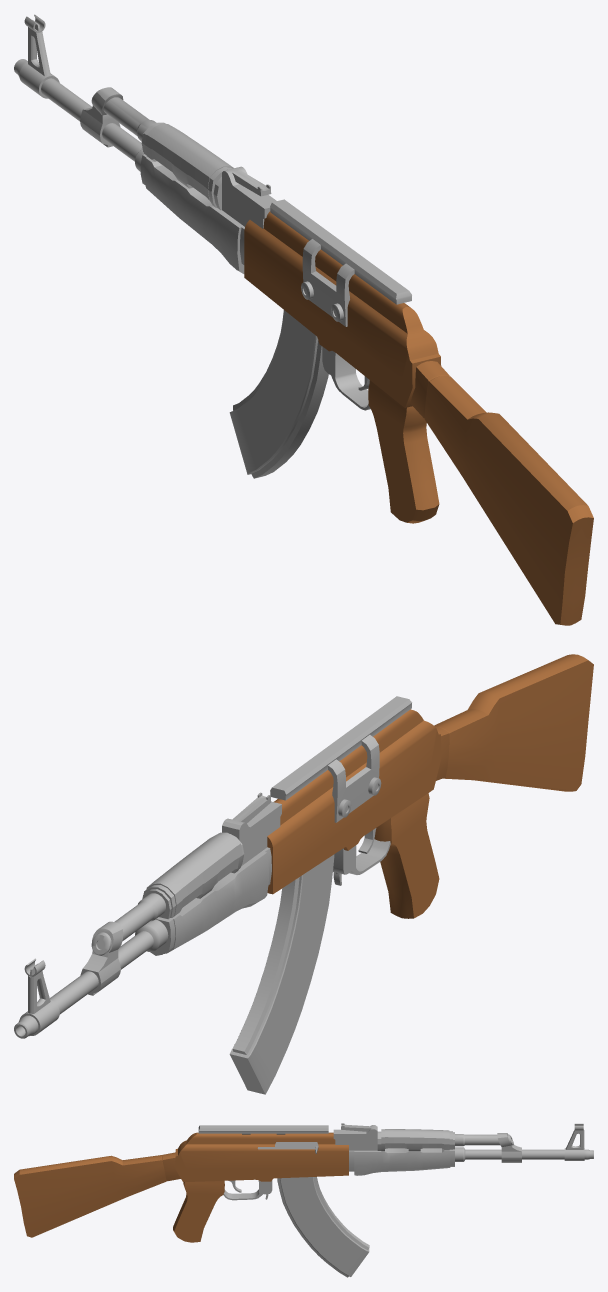
The model's file is weapon_AK.fbx.
The picture shows the model from 3 angles, top to bottom: view 1: azimuth 30°, elevation 25°; view 2: azimuth 150°, elevation 25°; view 3: azimuth 270°, elevation 25°; orthographic projection. The views are drawn at different scales.
Parts seen in each view (by area): view 1: BODY; view 2: BODY; view 3: BODY.
Part boxes in pixels (x1=…): BODY: x1=14, y1=14, x2=593, y2=625; BODY: x1=14, y1=654, x2=593, y2=1094; BODY: x1=14, y1=1123, x2=593, y2=1277.
Bounding box in the file's own units: 171 × 987 × 3415.
